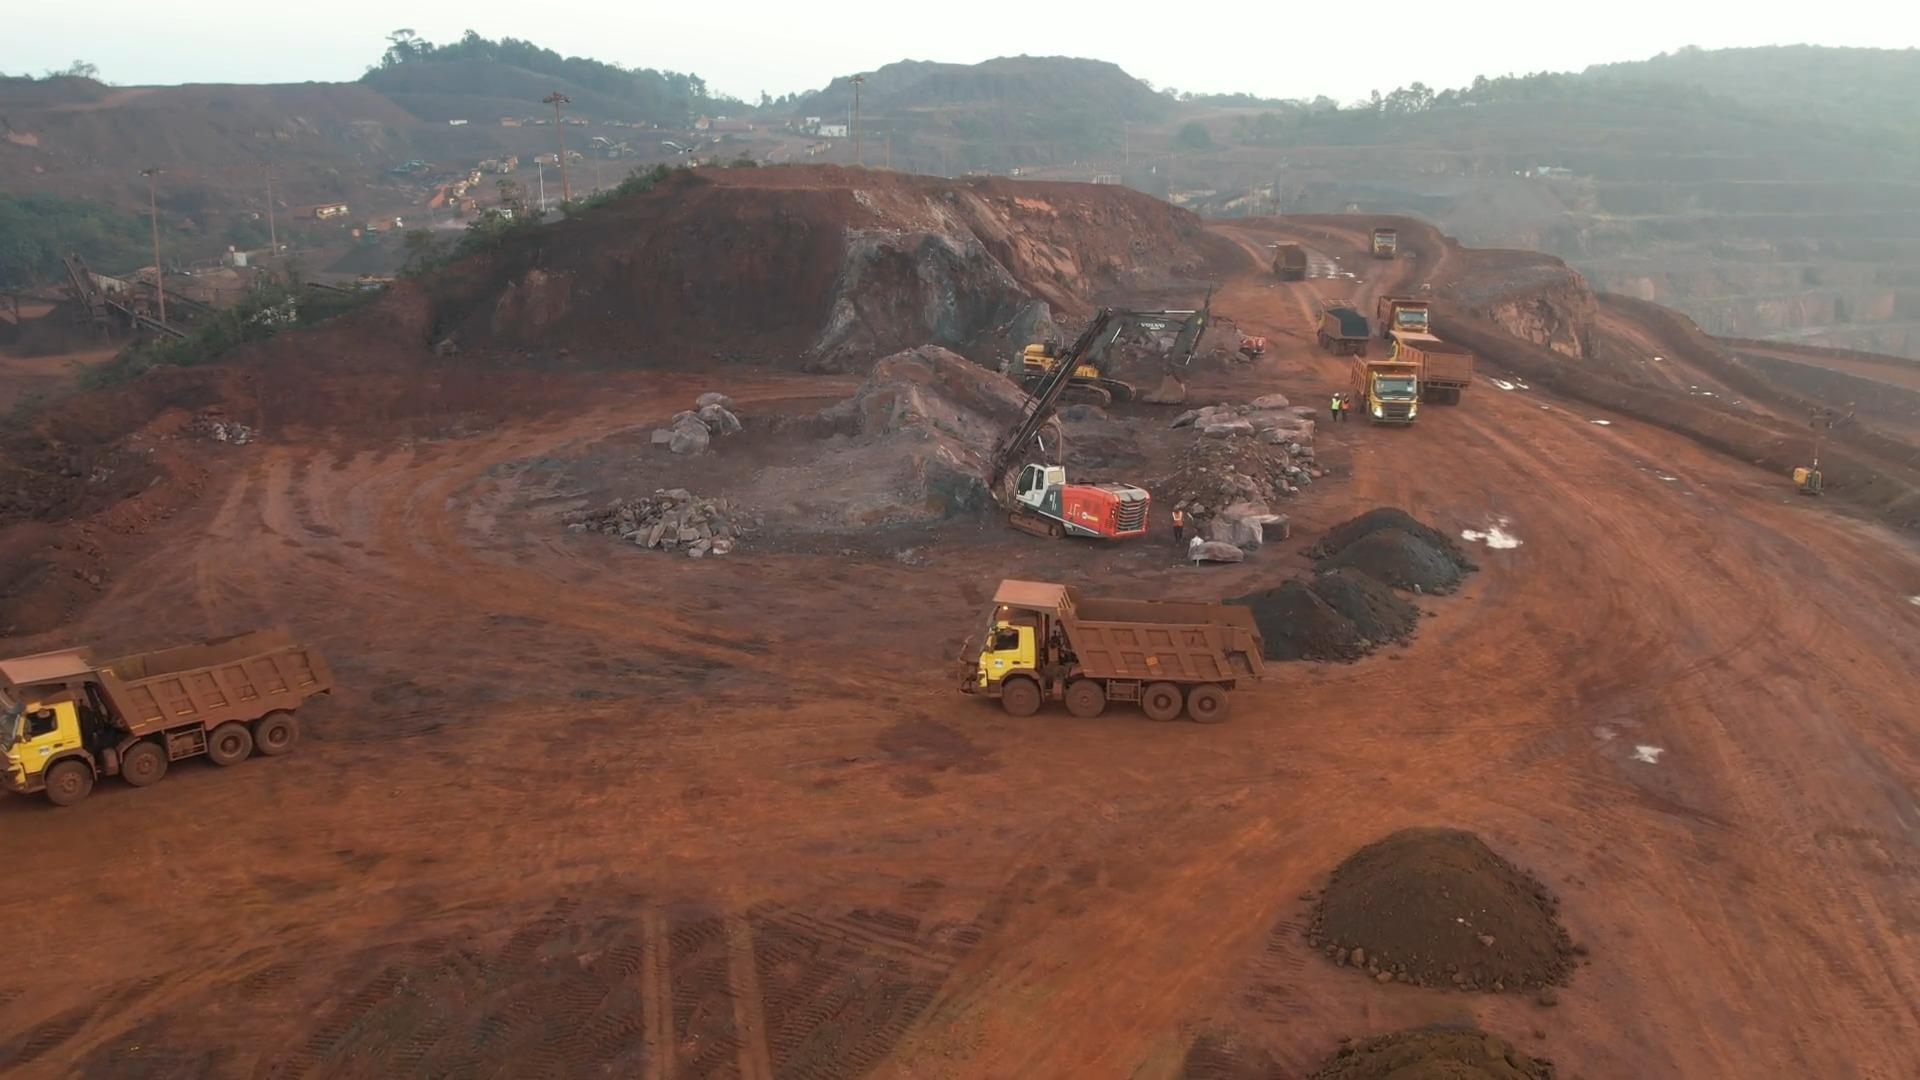excavator: (1025, 303, 1207, 398)
